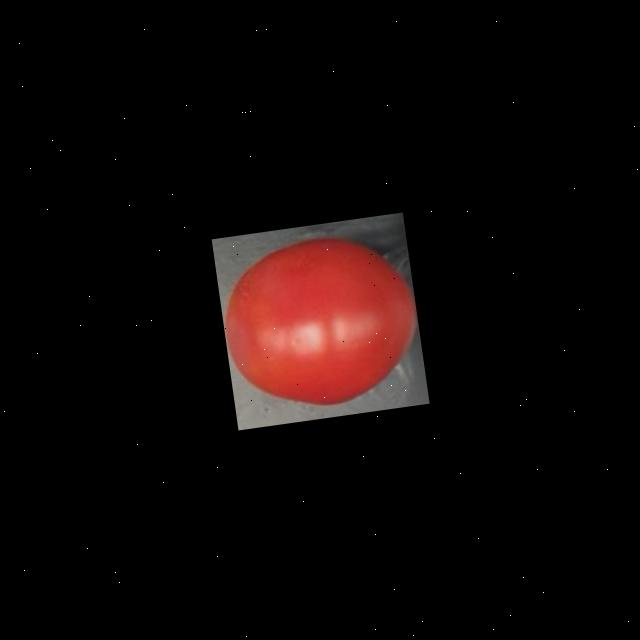tomato: (212, 221, 428, 417)
